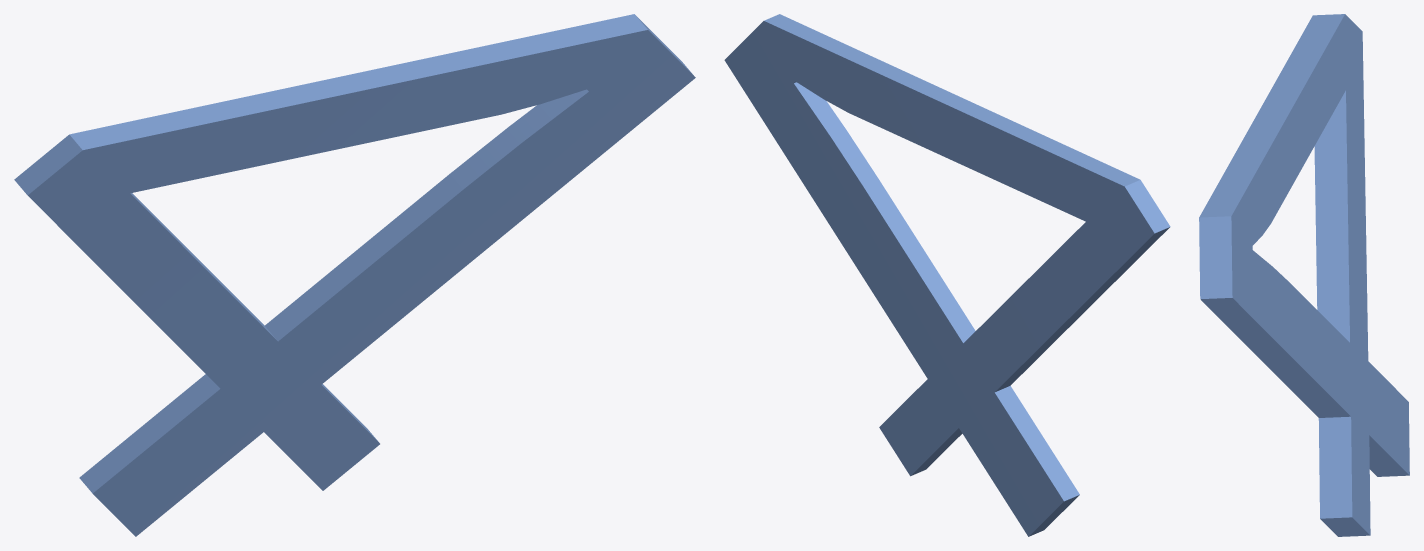
File: New_Number_4.gltf
3 views of the same model, side by side, from view 1: azimuth 30°, elevation 25°; view 2: azimuth 150°, elevation 25°; view 3: azimuth 270°, elevation 25° (orthographic). The views are drawn at different scales.
Parts seen in each view (by area): view 1: Part 94; view 2: Part 94; view 3: Part 94.
Boxes of the visible parts, left/top/right/bottom form: Part 94: left=14, top=14, right=695, bottom=536; Part 94: left=724, top=14, right=1170, bottom=536; Part 94: left=1199, top=14, right=1409, bottom=536.
Bounding box in the file's own units: 0.00531 × 0.00399 × 0.00165.
